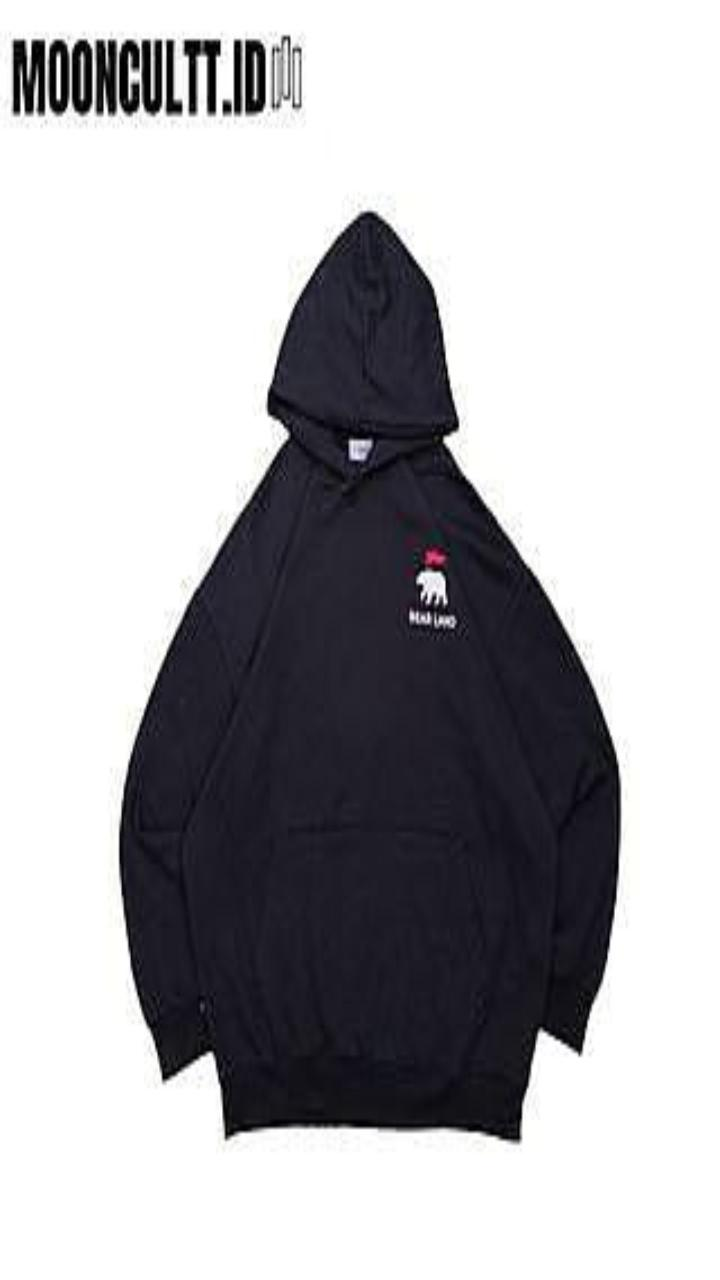Hoodie: (121, 214, 618, 1137)
